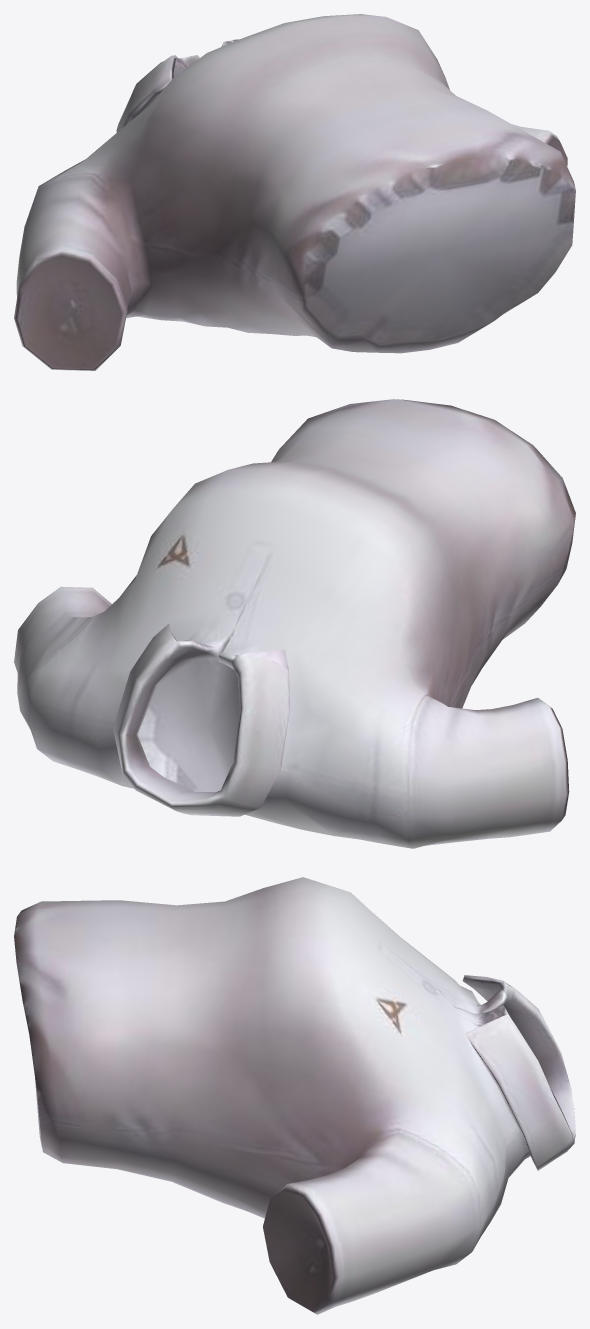
Rendered from Female_Afghanistan_Body.fbx.
3 renders of one model, top to bottom at view 1: azimuth 30°, elevation 25°; view 2: azimuth 150°, elevation 25°; view 3: azimuth 270°, elevation 25°, orthographic.
Visible parts, largest first — view 1: Wolf3D_Outfit_Top; view 2: Wolf3D_Outfit_Top; view 3: Wolf3D_Outfit_Top.
Part boxes in pixels (box(x1,y1,x2,y2)): Wolf3D_Outfit_Top: box(14, 14, 575, 370); Wolf3D_Outfit_Top: box(14, 399, 575, 848); Wolf3D_Outfit_Top: box(14, 877, 575, 1314).
Bounding box in the file's own units: 47.61 × 24.33 × 41.78.
